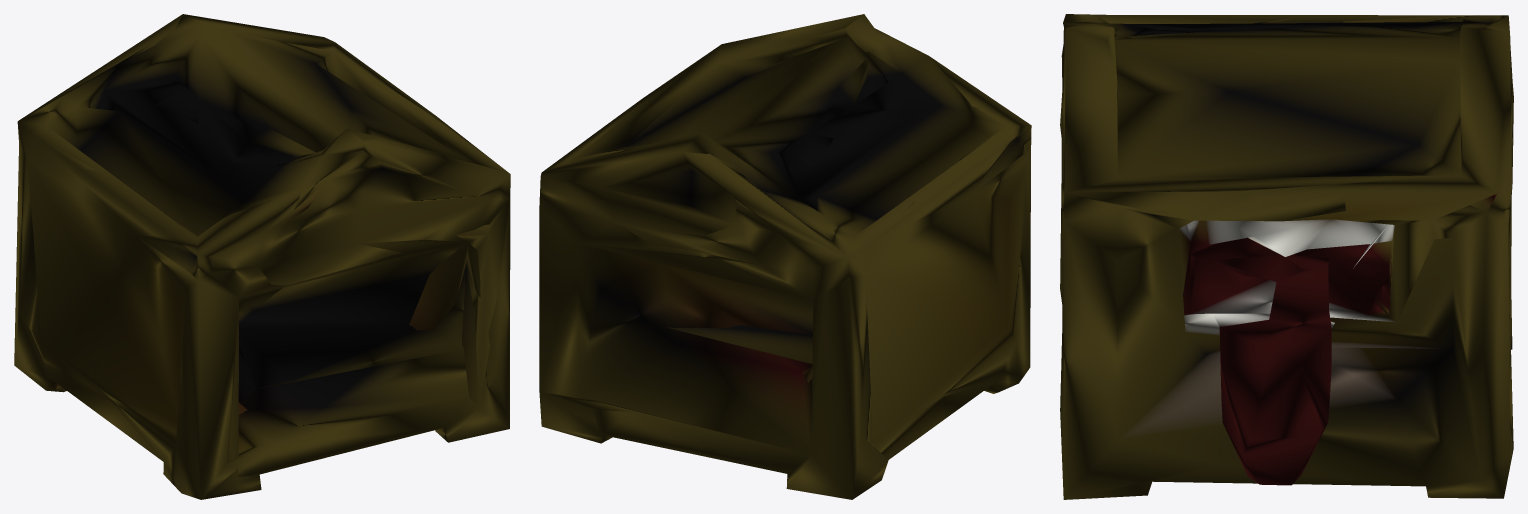
File: gen3d-mimic-chest-lod1.glb
3 views of the same model, side by side, from view 1: azimuth 30°, elevation 25°; view 2: azimuth 150°, elevation 25°; view 3: azimuth 270°, elevation 25° (orthographic). The views are drawn at different scales.
Parts seen in each view (by area): view 1: part_0; view 2: part_0; view 3: part_0.
Part boxes in pixels (bbox=[...]): part_0: bbox=[14, 14, 510, 499]; part_0: bbox=[539, 14, 1031, 499]; part_0: bbox=[1060, 14, 1513, 499].
Bounding box in the file's own units: 1.23 × 0.9989 × 1.05.
